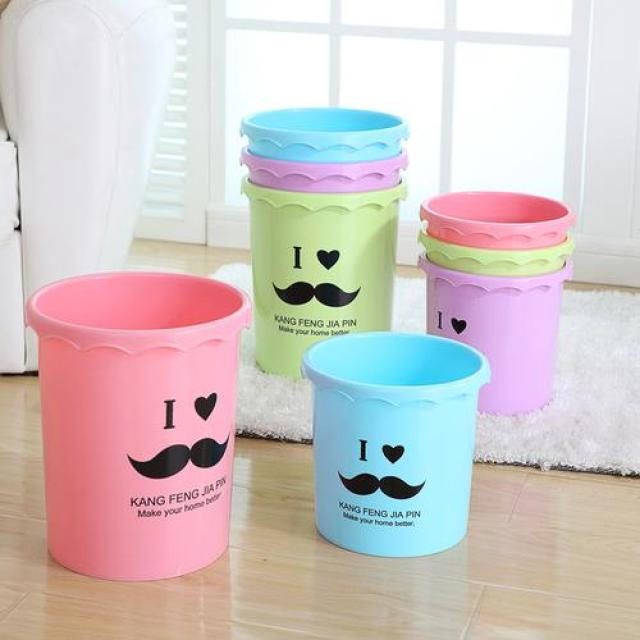dustbin: (20, 265, 258, 585), (297, 328, 496, 567), (240, 174, 411, 382), (415, 248, 578, 421), (236, 105, 414, 166), (418, 188, 578, 251), (238, 145, 411, 192), (420, 230, 580, 278)
